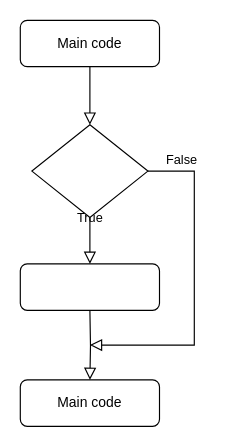
Some shapes in this 226 by 447 pixel diagram are drawn without their labels. Here are the shapes that lost their labels. From the top down, the centre of each, then its label:
At point (89, 170): "Test Condition".
At point (89, 286): "Body of if".
